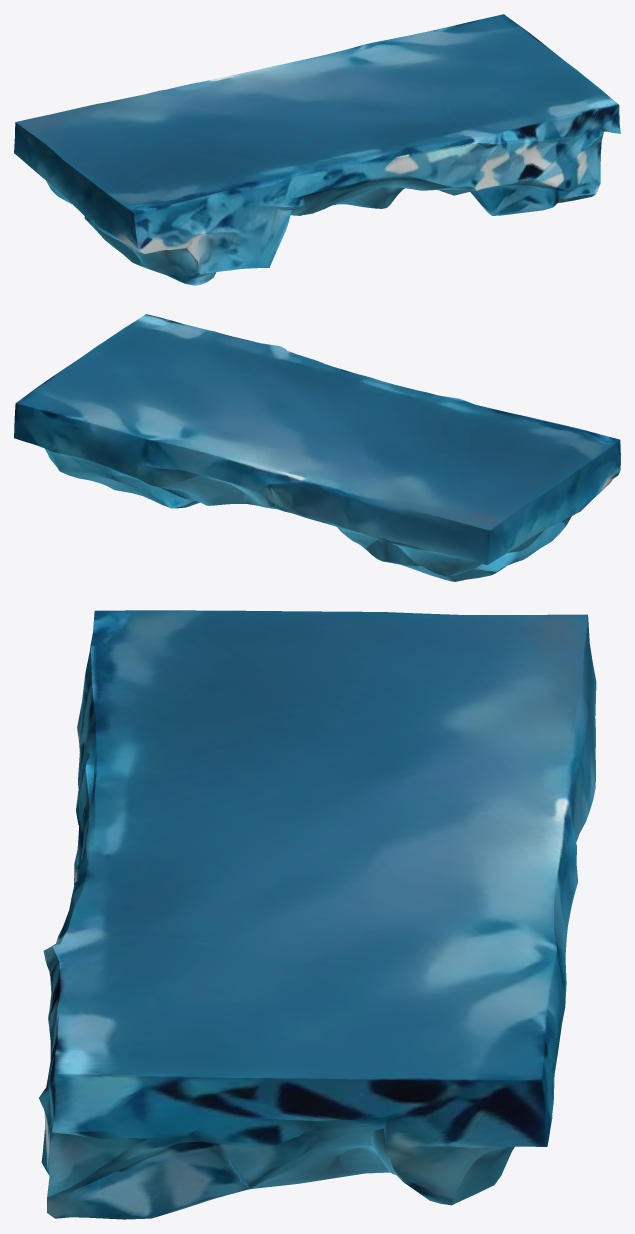
Rendered from m2CrystalSlabBridge.glb.
3 renders of one model, top to bottom at view 1: azimuth 30°, elevation 25°; view 2: azimuth 150°, elevation 25°; view 3: azimuth 270°, elevation 25°, orthographic. The views are drawn at different scales.
Visible parts, largest first — view 1: model; view 2: model; view 3: model.
Boxes of the visible parts, x1=… form: model: x1=14, y1=14, x2=620, y2=285; model: x1=14, y1=314, x2=620, y2=581; model: x1=39, y1=610, x2=596, y2=1219.
Bounding box in the file's own units: 1.9 × 0.3328 × 0.952.
1 material, 1 textured.
